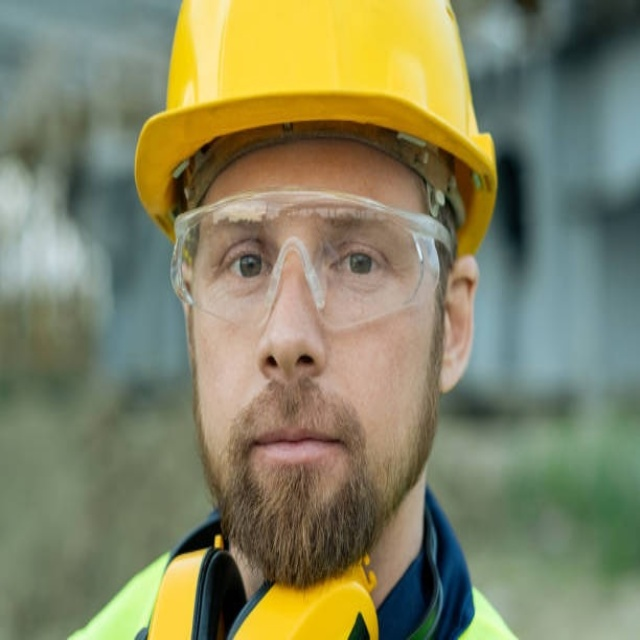Gafas: (166, 187, 454, 334)
Sin_mascara: (232, 391, 363, 515)
